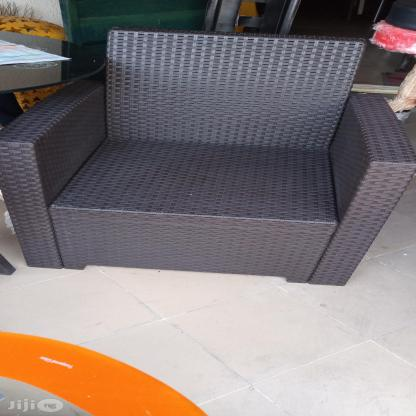chair: (4, 30, 416, 287)
